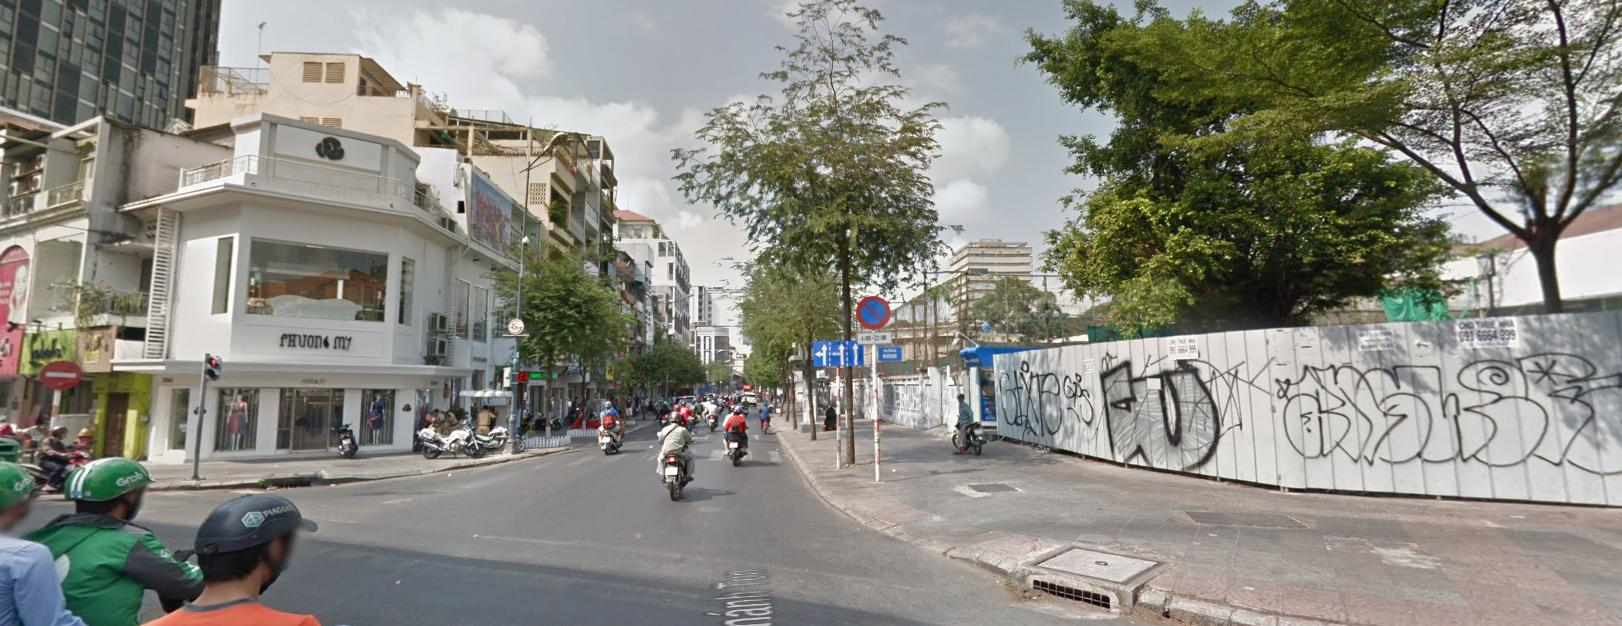Cam dung va do: (852, 295, 892, 328)
Cam nguoc chieu: (38, 356, 78, 392)
